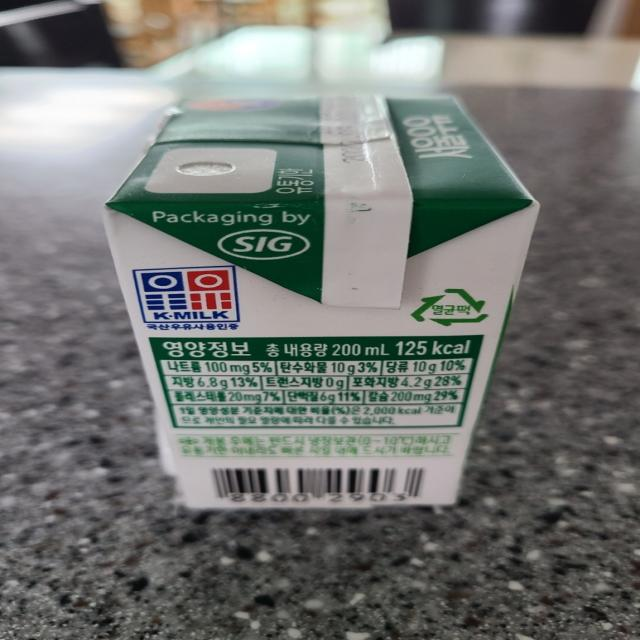SterilizedPack: (406, 284, 492, 328)
